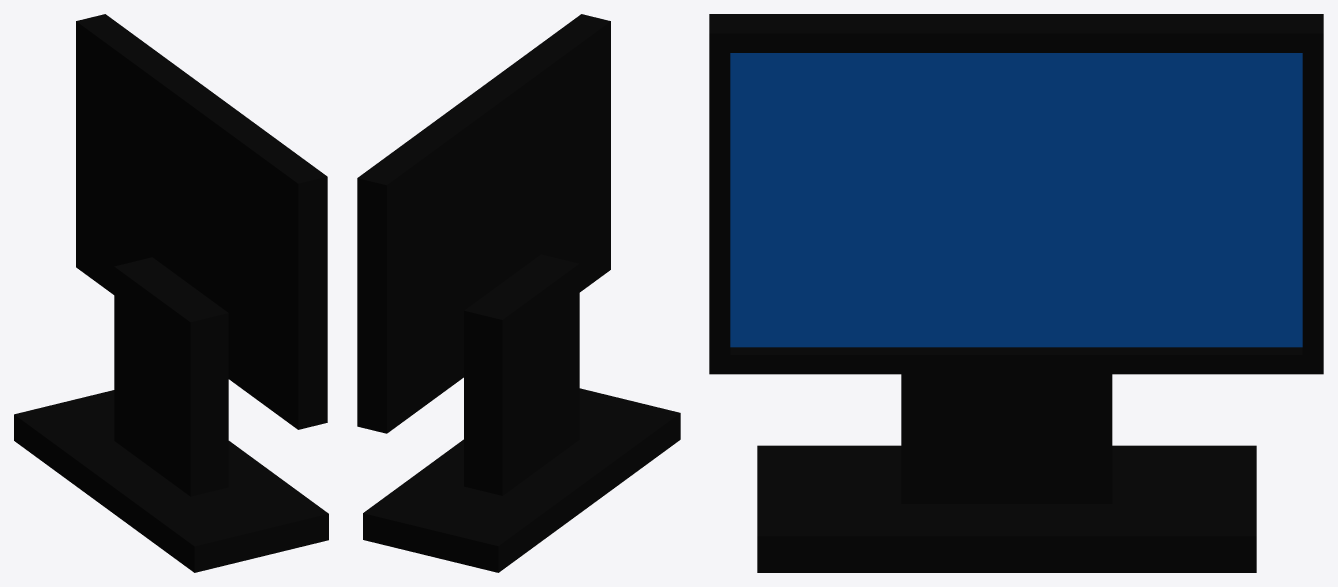
File: Computer.fbx
3 views of the same model, side by side, from view 1: azimuth 30°, elevation 25°; view 2: azimuth 150°, elevation 25°; view 3: azimuth 270°, elevation 25° (orthographic). The views are drawn at different scales.
Parts seen in each view (by area): view 1: Computer; view 2: Computer; view 3: Computer.
Boxes of the visible parts, box(x1,y1,x2,y2) form: Computer: box(14, 14, 328, 572); Computer: box(357, 14, 680, 572); Computer: box(709, 14, 1323, 572).
Size of the model in its own units: 25.47 by 69.01 by 72.99.
